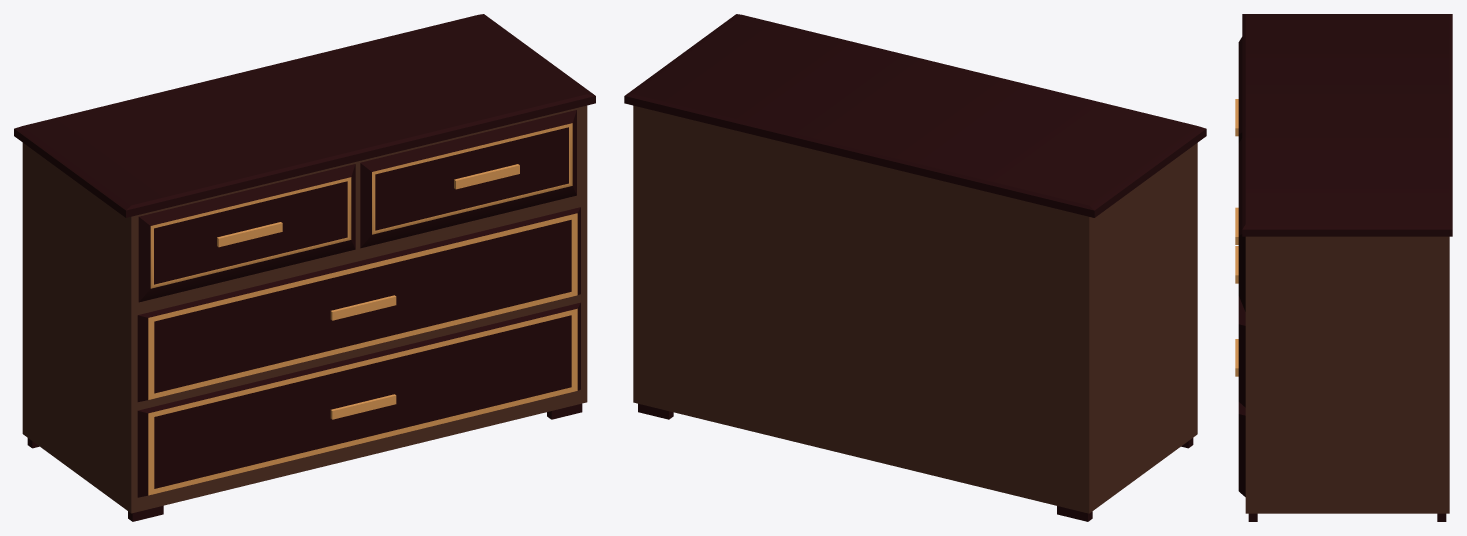
The model's file is Kommode.fbx.
The picture shows the model from 3 angles, left to right: view 1: azimuth 30°, elevation 25°; view 2: azimuth 150°, elevation 25°; view 3: azimuth 270°, elevation 25°; orthographic projection. The views are drawn at different scales.
Parts seen in each view (by area): view 1: Kommode; view 2: Kommode; view 3: Kommode.
Part boxes in pixels (x1,y1,x2,y2): Kommode: [14, 14, 595, 521]; Kommode: [624, 14, 1206, 521]; Kommode: [1235, 14, 1452, 521].
Bounding box in the file's own units: 180 × 117 × 76.91.
